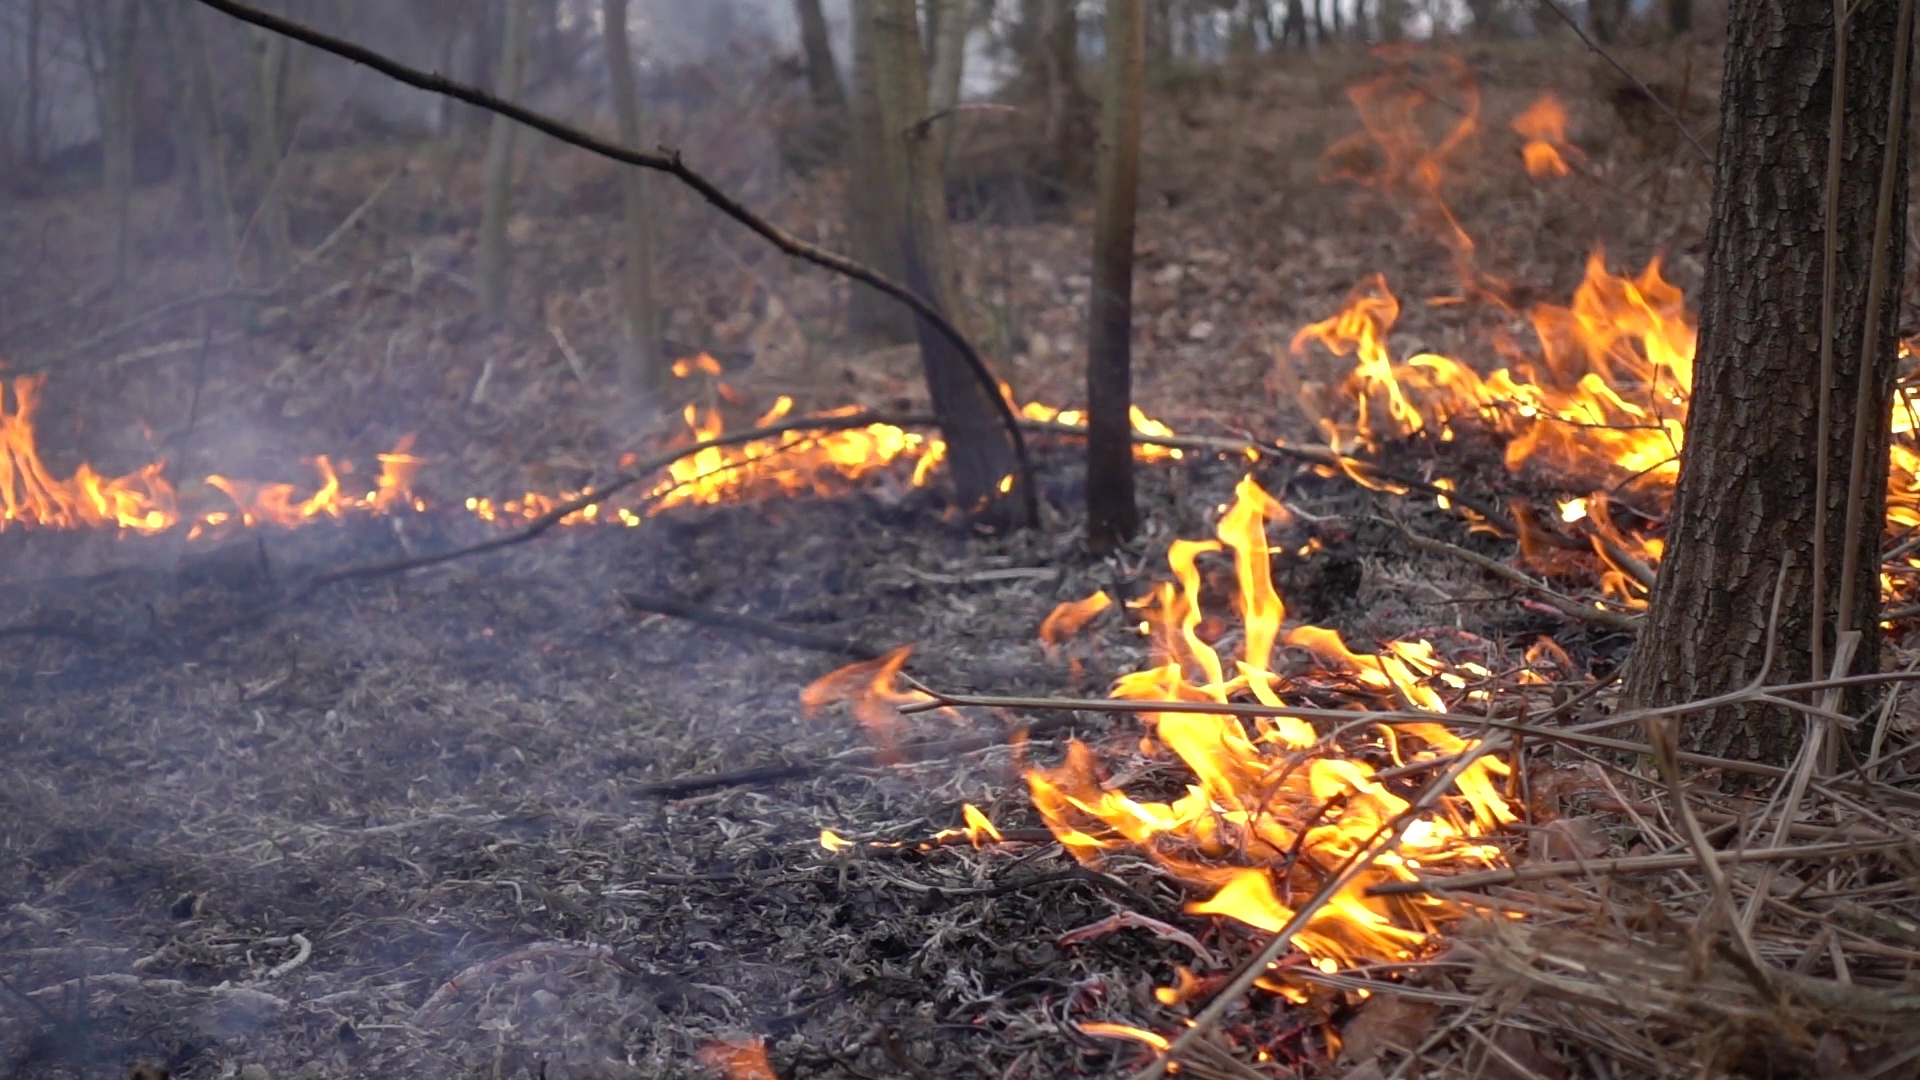fire: (989, 485, 1524, 985), (1284, 261, 1701, 551), (662, 361, 942, 502), (1, 378, 170, 531), (195, 446, 429, 526), (467, 484, 600, 529), (1886, 392, 1920, 521), (1129, 404, 1180, 462)
